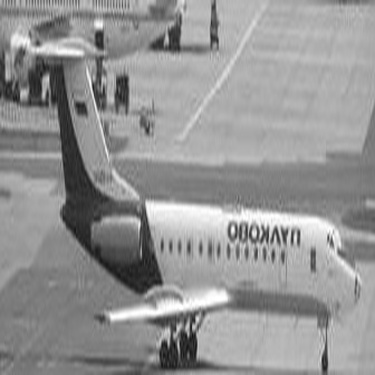airplane: (6, 1, 372, 374)
